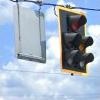traffic lights: (59, 8, 96, 76)
